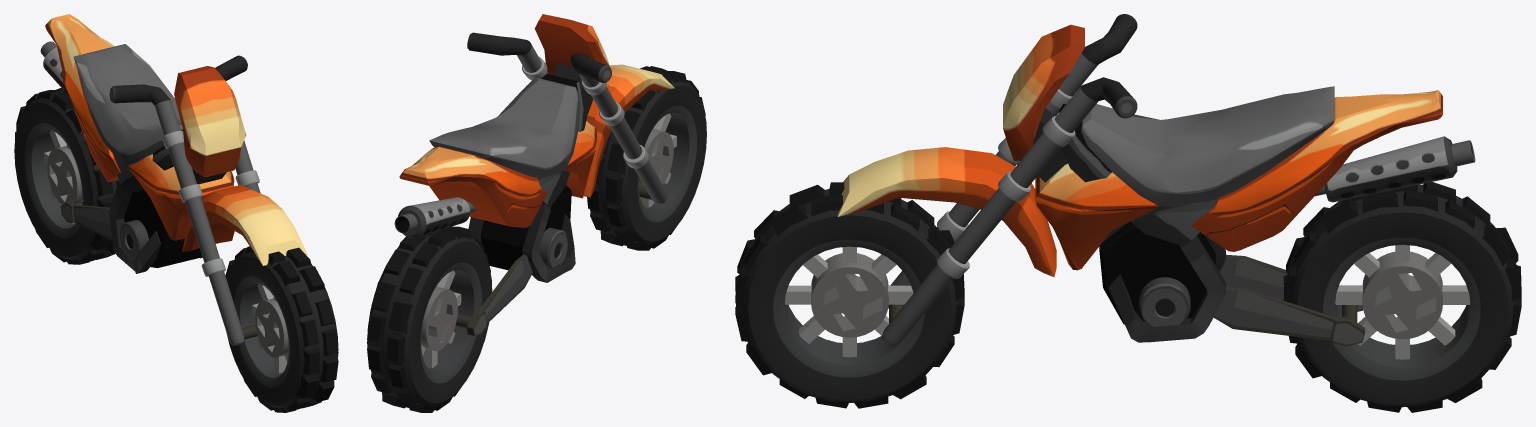
Rendered from HCR2 Motocross.fbx.
3 views of the same model, side by side, from view 1: azimuth 30°, elevation 25°; view 2: azimuth 150°, elevation 25°; view 3: azimuth 270°, elevation 25° (orthographic). The views are drawn at different scales.
Visible parts, largest first — view 1: HCR2_Mt_Steer, HCR2_Mt_Body, HCR2_Mt_Front_Wheel, HCR2_Mt_Rear_Wheel, HCR2_Mt_Engine, HCR2_Mt_Susp, HCR2_Mt_Exhaust; view 2: HCR2_Mt_Rear_Wheel, HCR2_Mt_Body, HCR2_Mt_Front_Wheel, HCR2_Mt_Steer, HCR2_Mt_Engine, HCR2_Mt_Exhaust, HCR2_Mt_Susp; view 3: HCR2_Mt_Body, HCR2_Mt_Rear_Wheel, HCR2_Mt_Front_Wheel, HCR2_Mt_Steer, HCR2_Mt_Engine, HCR2_Mt_Susp, HCR2_Mt_Exhaust.
Boxes of the visible parts, bbox=[...] form: HCR2_Mt_Steer: bbox=[109, 55, 307, 345]; HCR2_Mt_Body: bbox=[45, 14, 234, 240]; HCR2_Mt_Front_Wheel: bbox=[225, 246, 338, 412]; HCR2_Mt_Rear_Wheel: bbox=[14, 87, 119, 264]; HCR2_Mt_Engine: bbox=[109, 169, 226, 273]; HCR2_Mt_Susp: bbox=[60, 201, 112, 240]; HCR2_Mt_Exhaust: bbox=[40, 41, 68, 95]; HCR2_Mt_Rear_Wheel: bbox=[367, 226, 492, 412]; HCR2_Mt_Body: bbox=[399, 73, 597, 227]; HCR2_Mt_Front_Wheel: bbox=[587, 66, 706, 250]; HCR2_Mt_Steer: bbox=[467, 14, 674, 204]; HCR2_Mt_Engine: bbox=[468, 63, 593, 282]; HCR2_Mt_Exhaust: bbox=[394, 197, 475, 238]; HCR2_Mt_Susp: bbox=[455, 254, 532, 335]; HCR2_Mt_Body: bbox=[1035, 86, 1442, 270]; HCR2_Mt_Rear_Wheel: bbox=[1283, 182, 1521, 412]; HCR2_Mt_Front_Wheel: bbox=[735, 182, 964, 408]; HCR2_Mt_Steer: bbox=[837, 14, 1137, 346]; HCR2_Mt_Engine: bbox=[1033, 108, 1225, 342]; HCR2_Mt_Susp: bbox=[1214, 254, 1365, 346]; HCR2_Mt_Exhaust: bbox=[1315, 136, 1475, 202].
Size of the model in its own units: 95.32 by 186 by 360.
2 materials, 2 textured.
